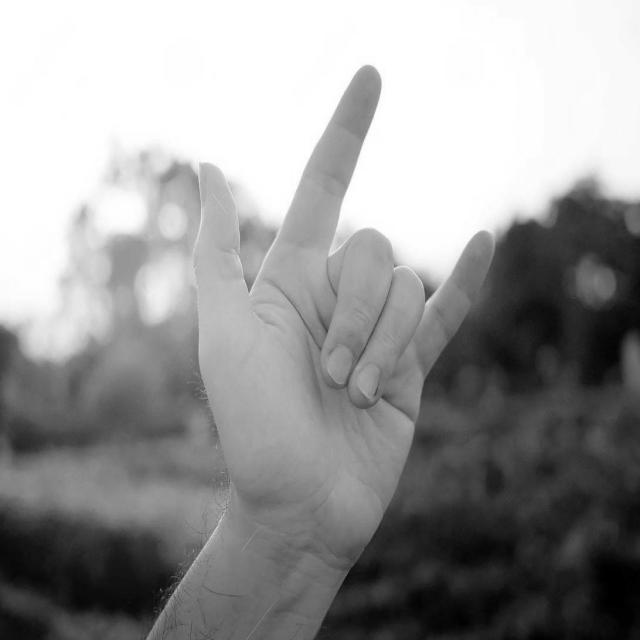i love you: (188, 54, 503, 579)
